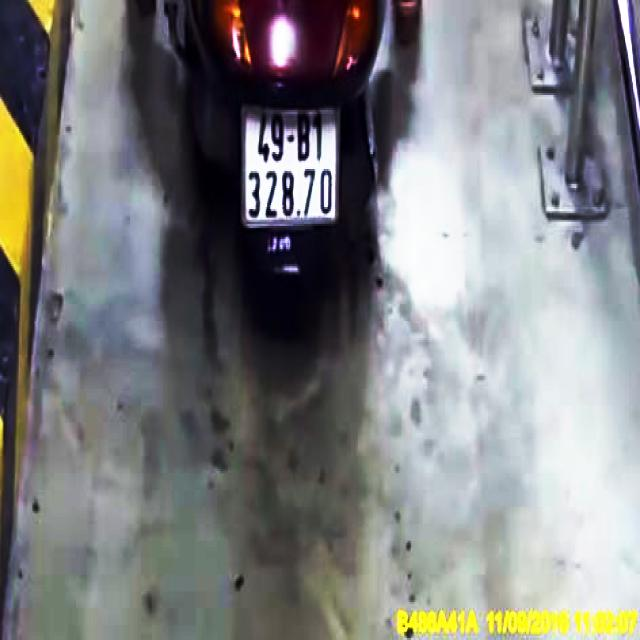license_plate: (244, 101, 341, 229)
